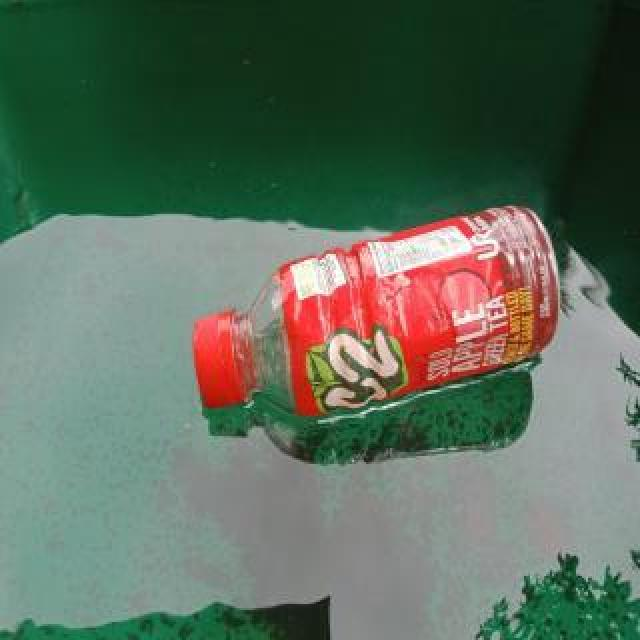bottle: (187, 203, 563, 431)
